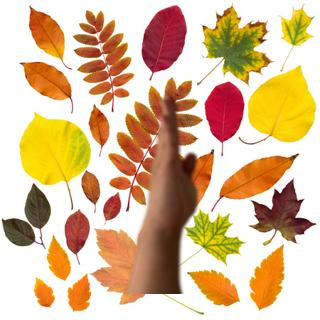RIGHT: (142, 93, 204, 232)
